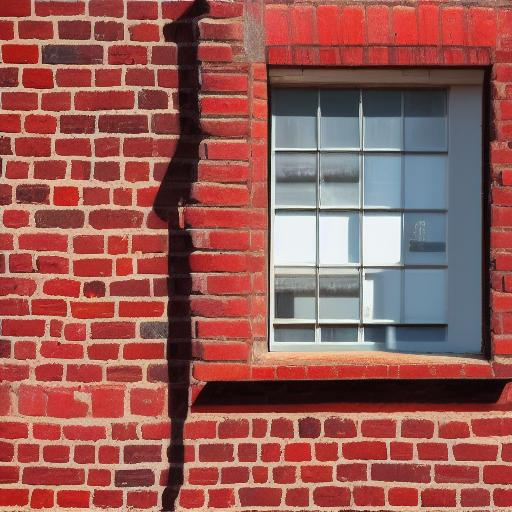Window: (191, 0, 512, 403)
